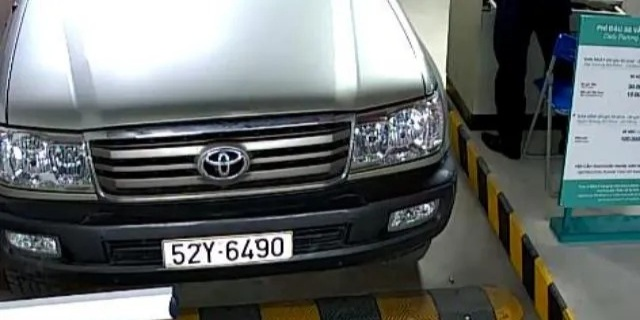bien_so: (165, 235, 292, 267)
